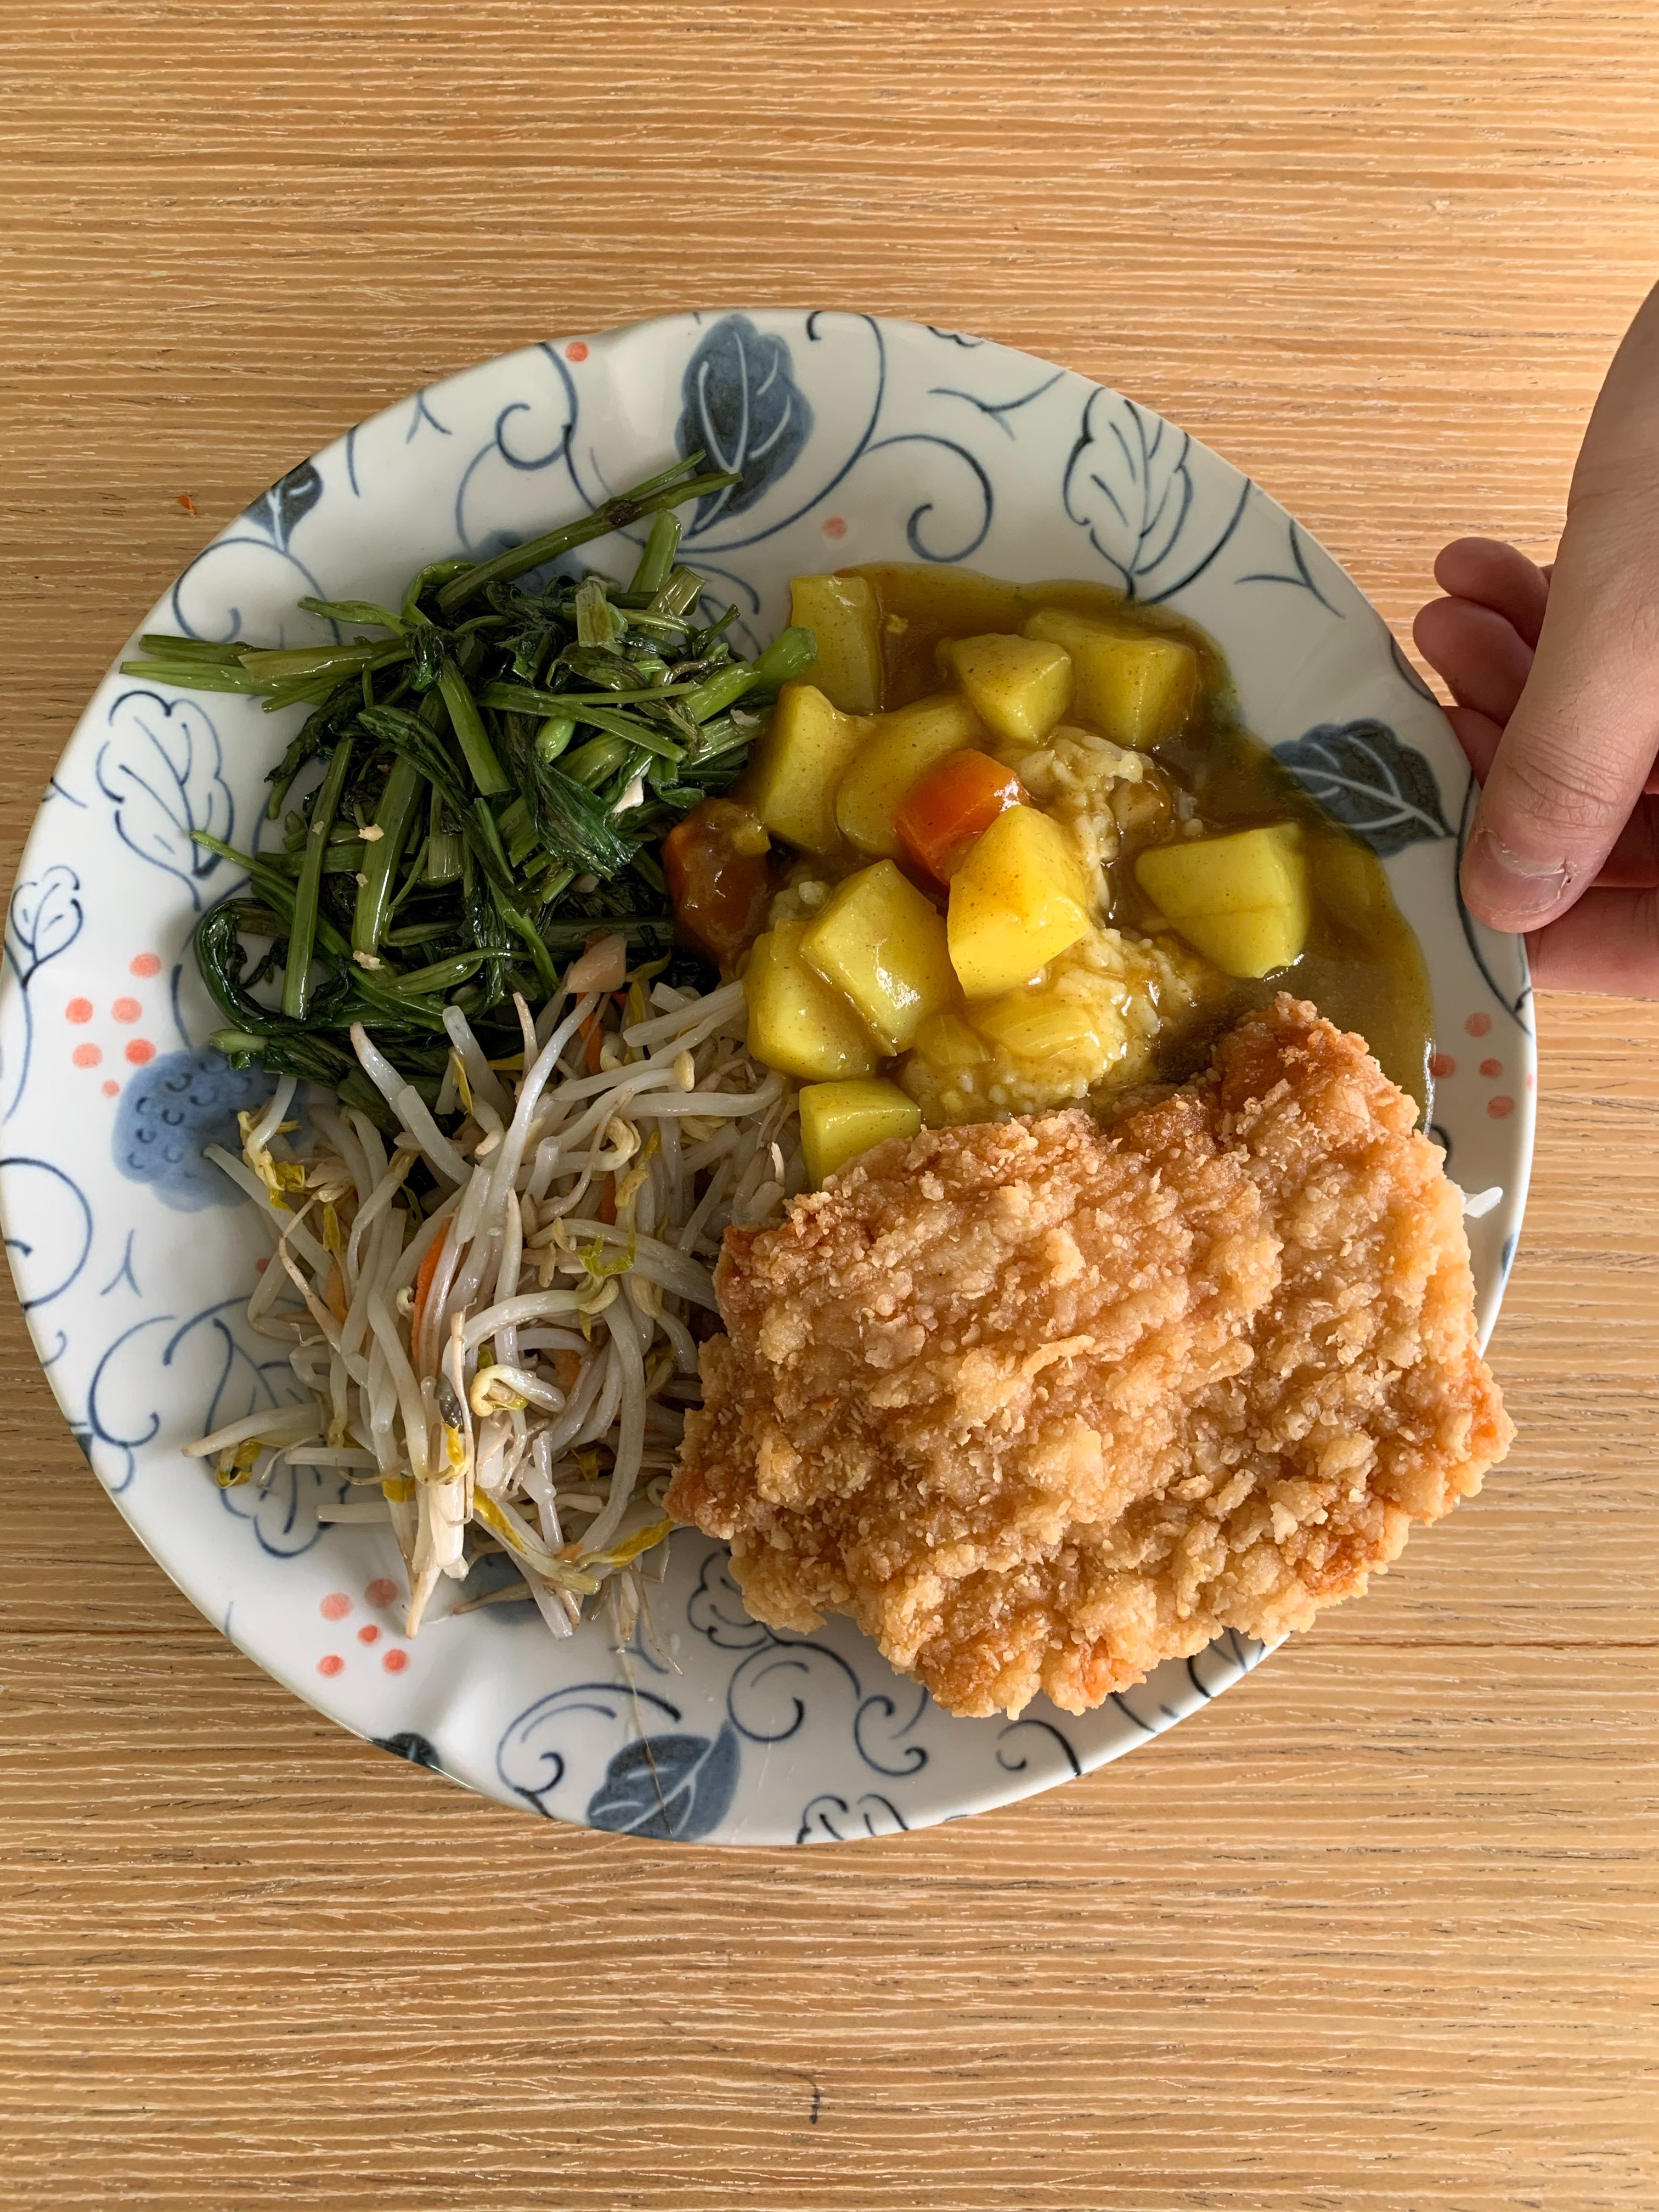curry: (775, 644, 1297, 1047)
fried_chicken: (774, 1109, 1471, 1644)
mung_bean_sprouts: (303, 1082, 699, 1515)
water_spinach: (263, 590, 708, 960)
